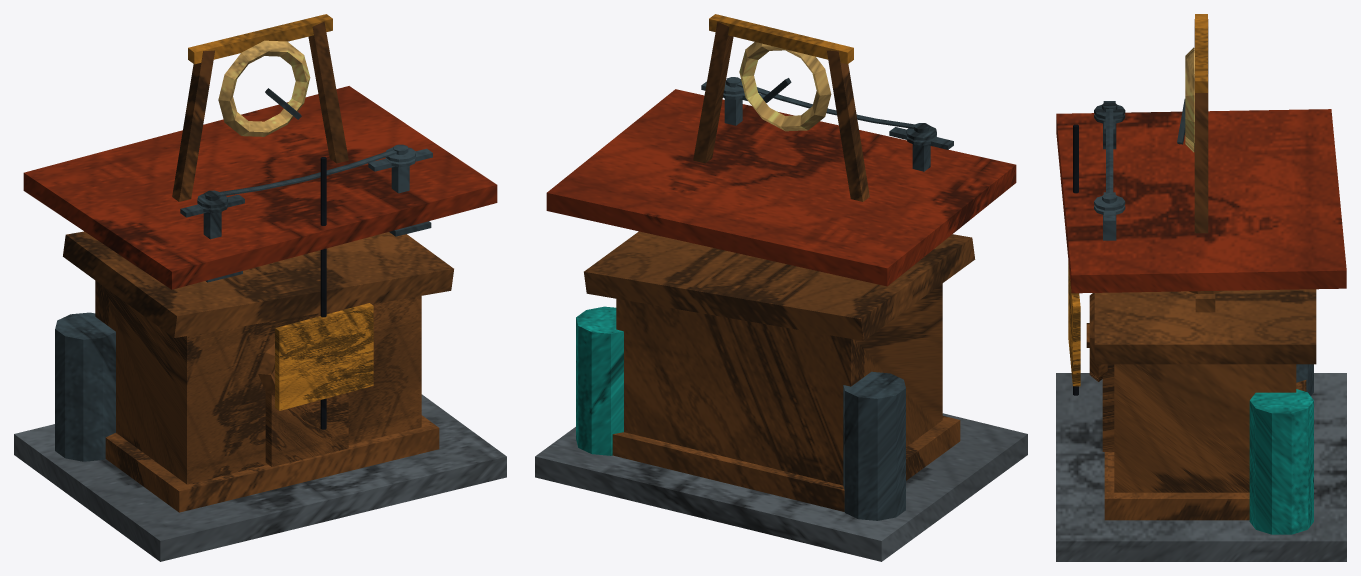
The model's file is fair-bell-battery-kiosk.glb.
3 views of the same model, side by side, from view 1: azimuth 30°, elevation 25°; view 2: azimuth 150°, elevation 25°; view 3: azimuth 270°, elevation 25° (orthographic).
Parts seen in each view (by area): view 1: fair-bell-battery-kiosk; view 2: fair-bell-battery-kiosk; view 3: fair-bell-battery-kiosk.
Part boxes in pixels (x1=…): fair-bell-battery-kiosk: x1=14, y1=14, x2=506, y2=561; fair-bell-battery-kiosk: x1=535, y1=14, x2=1027, y2=561; fair-bell-battery-kiosk: x1=1056, y1=14, x2=1346, y2=561.
Size of the model in its own units: 5.2 by 6.2 by 3.8.
Materials: 1 (1 with a texture image).
